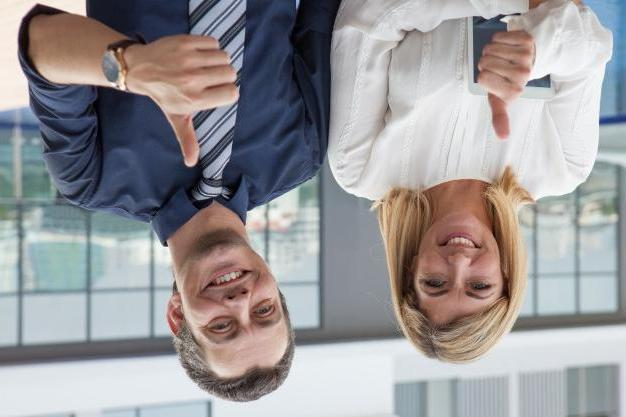thumbsdown: (168, 34, 240, 167), (477, 30, 534, 140)
